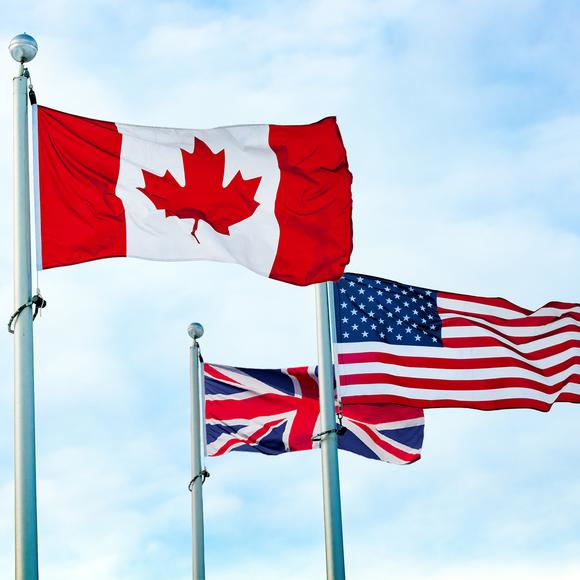America flag: (329, 274, 580, 409)
Canada flag: (30, 102, 349, 280)
